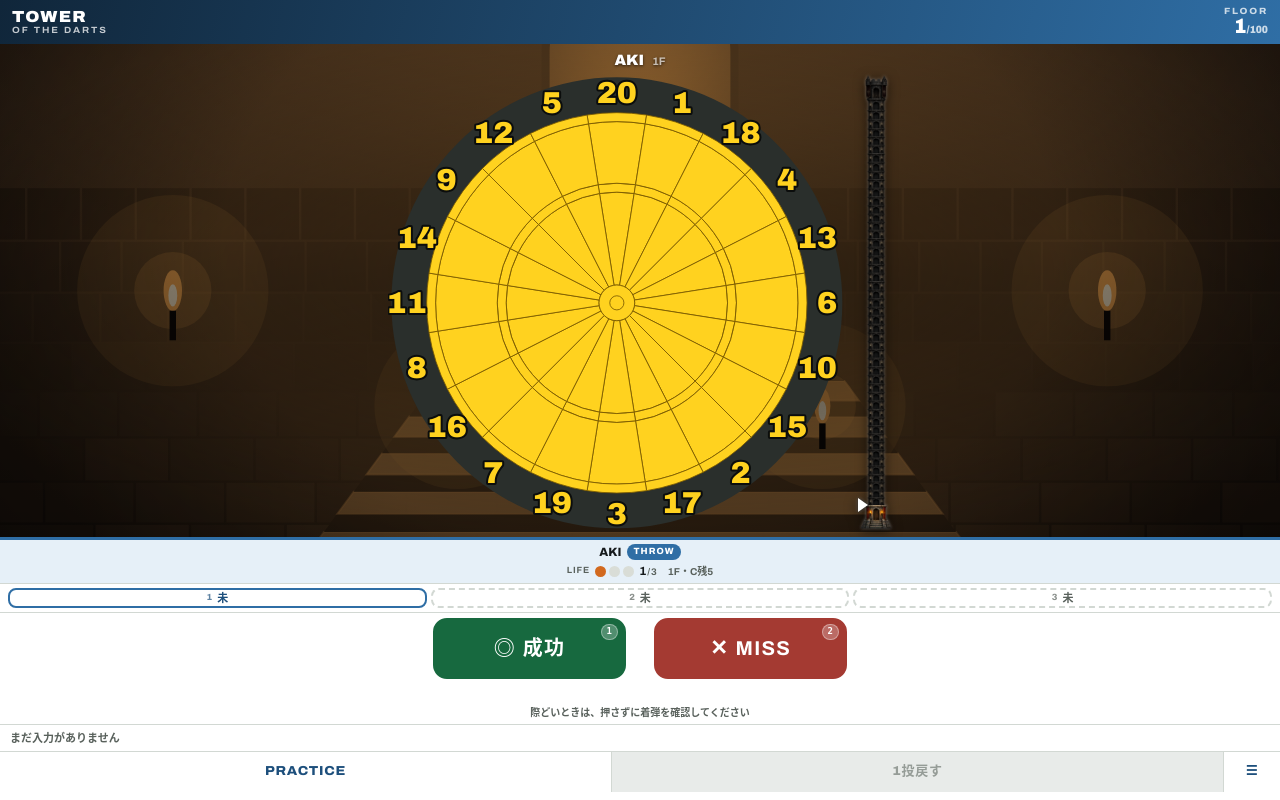
waiting › offers CONTINUE at LIFE 0, and refuses judgements while it is up
Click the button with class "miss" at (750, 648), box left=654, top=618, right=847, bottom=678
Wait 240 ms
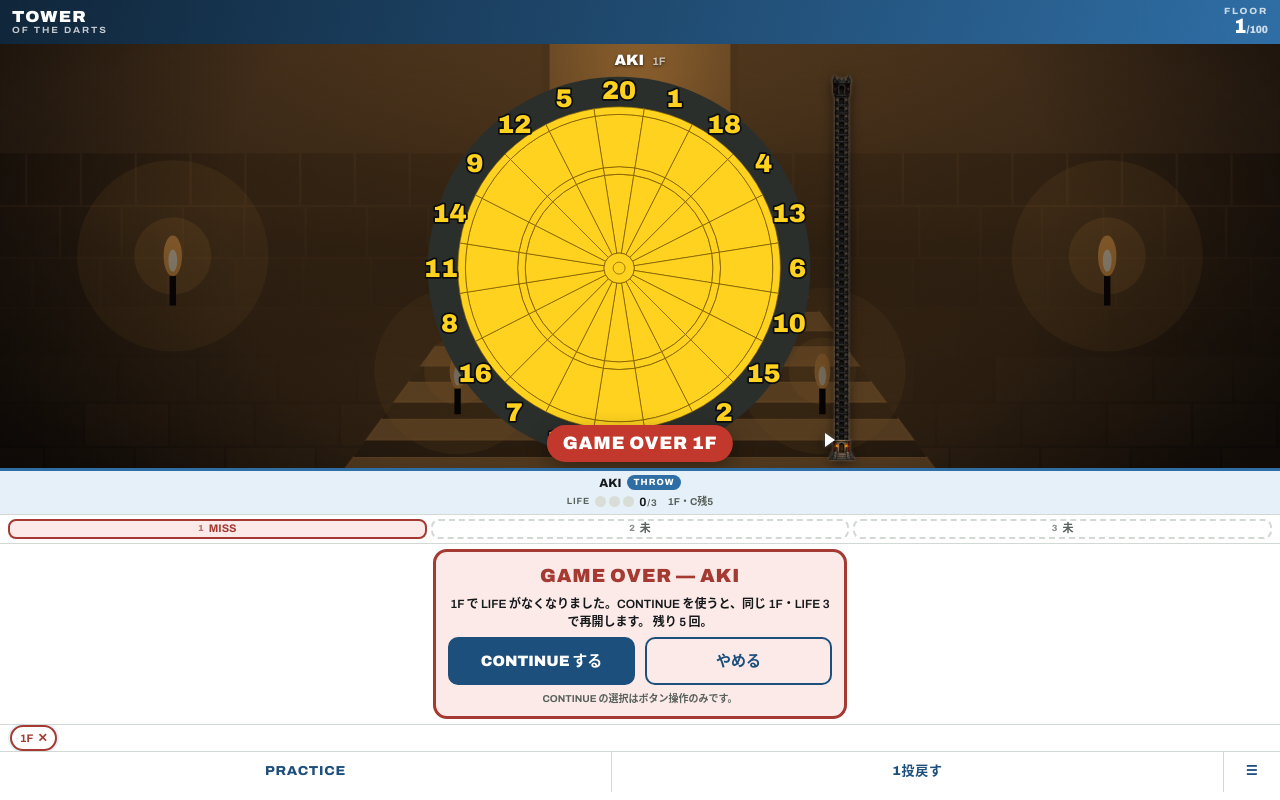
Now the element with class "over" is shown, box left=433, top=549, right=847, bottom=719
Now the button with class "hit" is gone
Press 1
Press 2
Now the element with class "over" is shown, box left=433, top=549, right=847, bottom=719
Click the button "CONTINUE する" at (542, 661), box left=448, top=637, right=635, bottom=685
Wait 240 ms
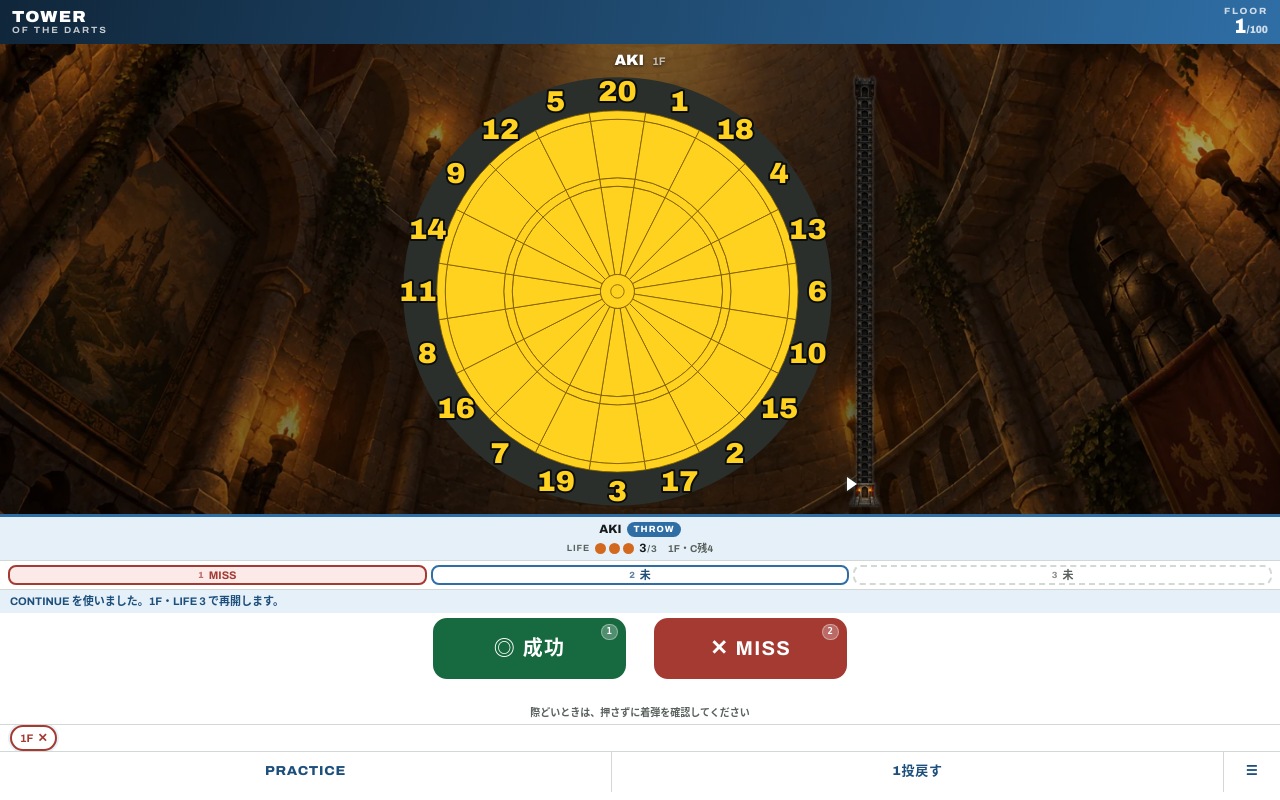
Now the text "CONTINUE を使いました。1F・LIFE 3 で再開します。" is shown, box left=0, top=590, right=1279, bottom=613
